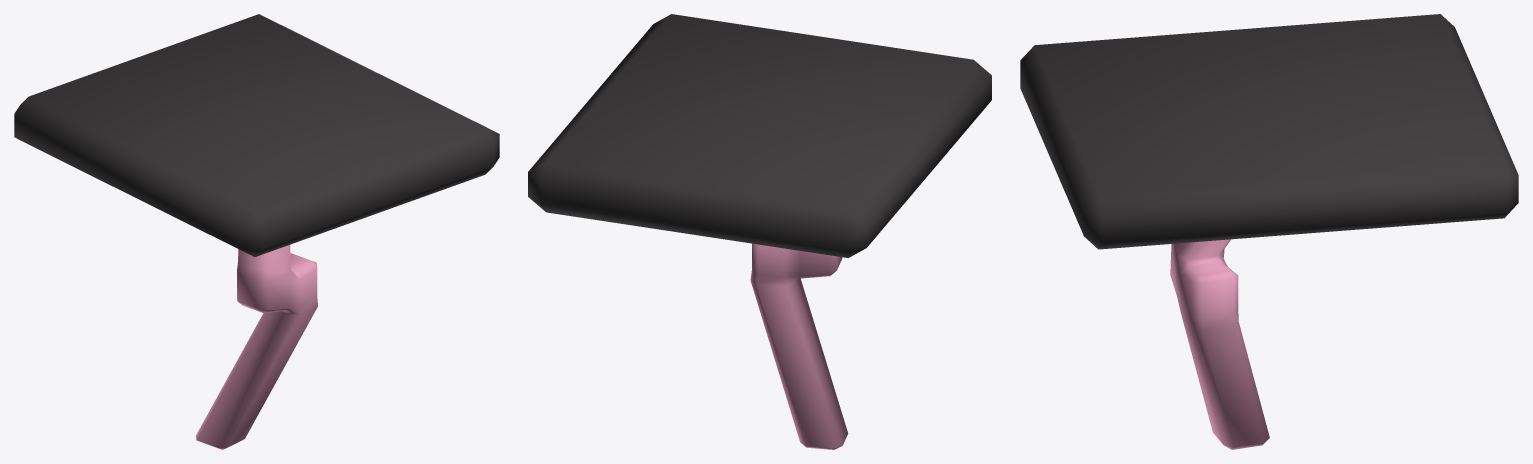
Rendered from Spider Island Level 1 Tree 3.fbx.
3 renders of one model, left to right at view 1: azimuth 30°, elevation 25°; view 2: azimuth 150°, elevation 25°; view 3: azimuth 270°, elevation 25°, orthographic. The views are drawn at different scales.
Visible parts, largest first — view 1: Cube.001; view 2: Cube.001; view 3: Cube.001.
Part boxes in pixels (x1,y1,x2,y2): Cube.001: [14, 14, 499, 449]; Cube.001: [528, 14, 991, 449]; Cube.001: [1020, 14, 1518, 449].
Size of the model in its own units: 7.76 by 6.7 by 8.29.
